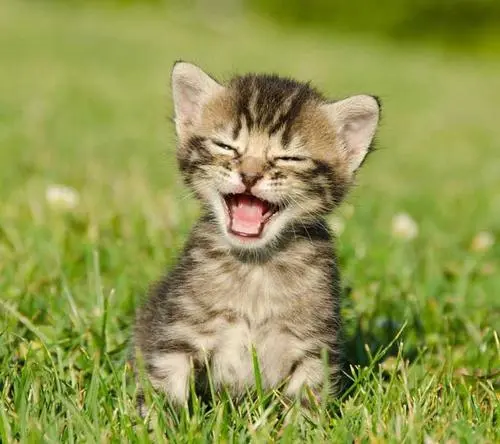cat: (126, 48, 387, 421)
